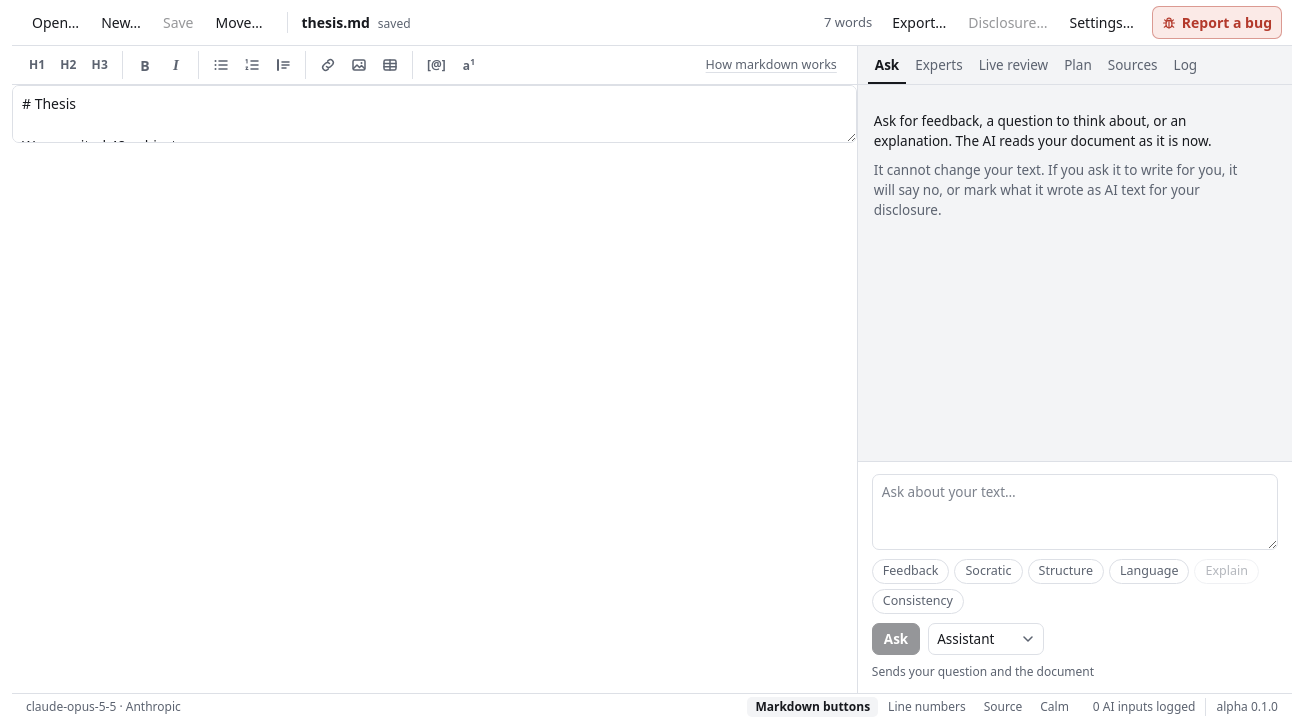
Test: HTML in an answer is shown as text, and a web address is not a link
This screenshot has width=1292, height=720.
Expected: the text "thesis.md" is shown, [302, 13, 370, 32]
Type "hi" into the text box named "Ask the AI" at (1075, 512), box [872, 474, 1278, 550]
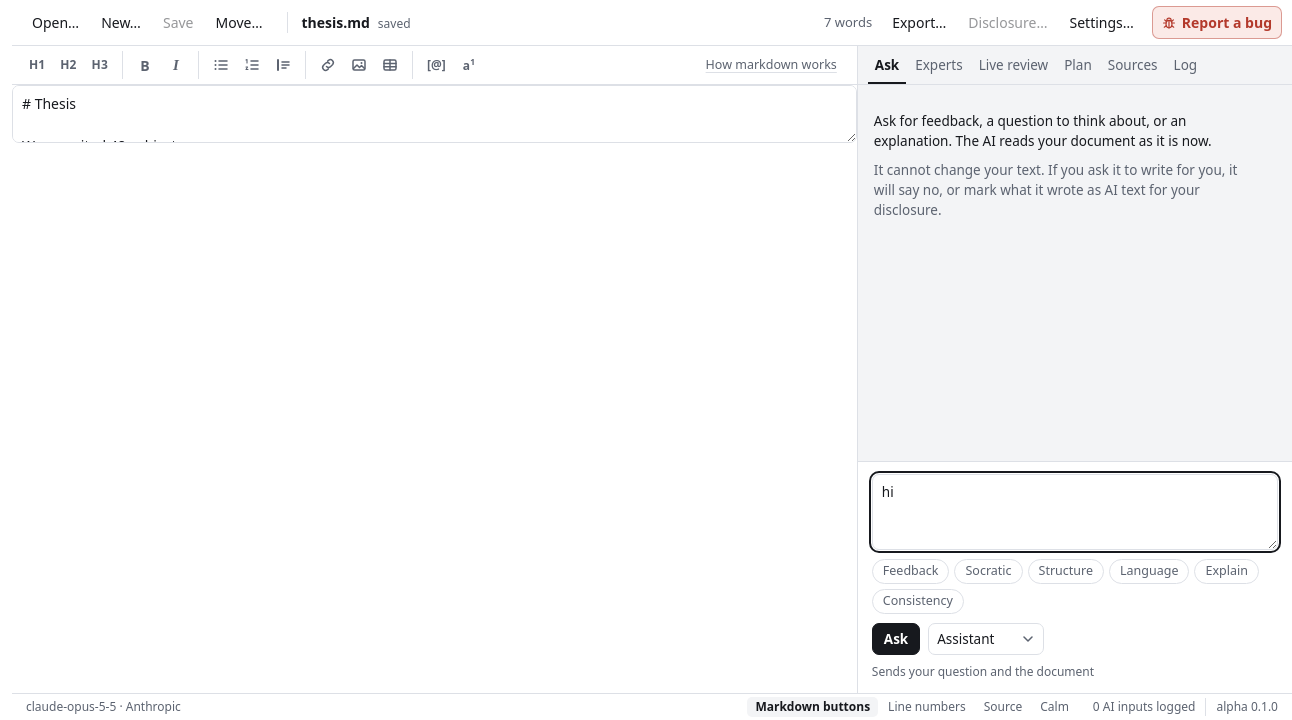
Click the button "Ask" at (896, 639), box [872, 623, 920, 655]
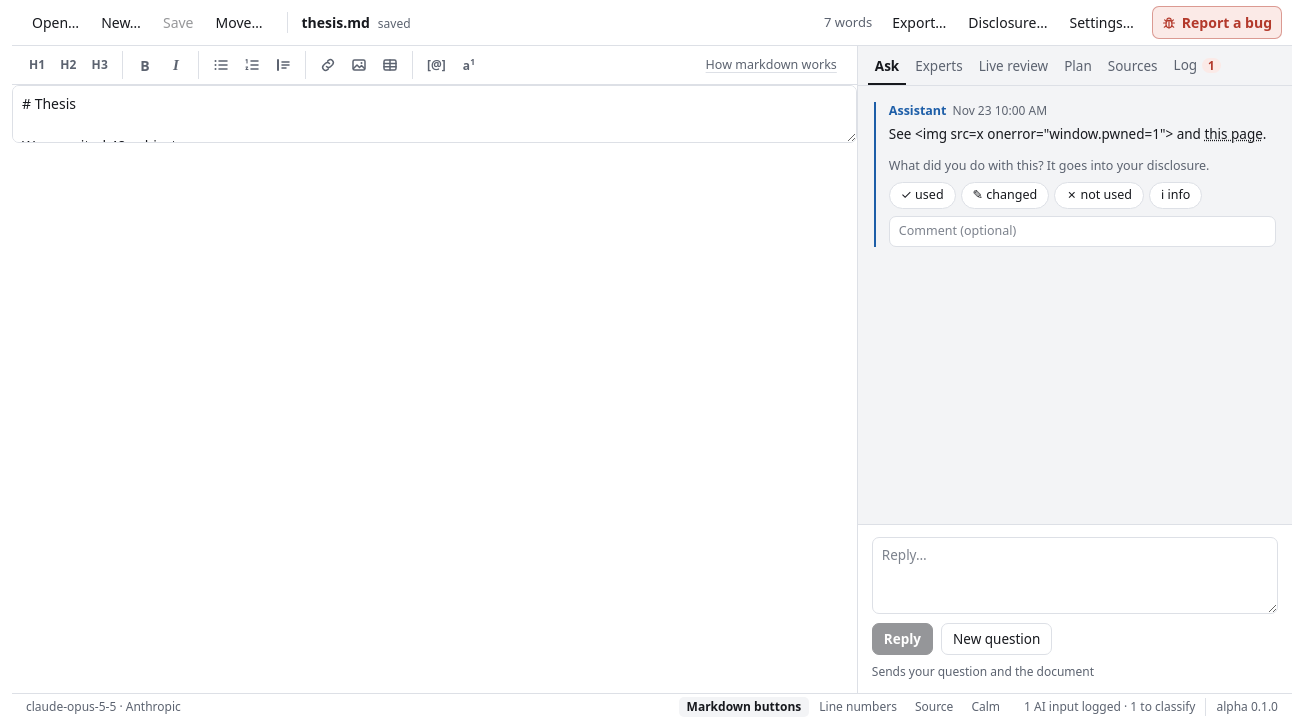
Result: the text "this page" is shown at [1204, 125, 1263, 143]
